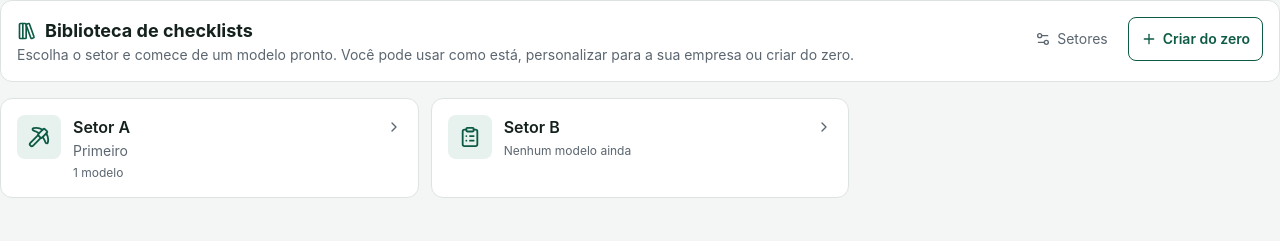
Scenario: biblioteca de checklists › lista os setores que a API manda, na ordem do cadastro, e entra no setor
The image size is (1280, 241).
Check: the text "Nenhum modelo ainda" is shown, box x1=504 y1=143 x2=631 y2=158
Click the link "Setor A Primeiro 1 modelo" at (39, 137), box x1=0 y1=98 x2=419 y2=198
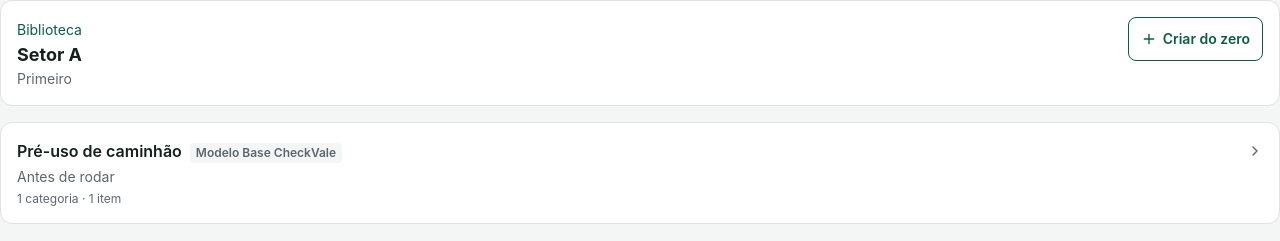
Check: the text "Pré-uso de caminhão" is shown, box x1=17 y1=141 x2=182 y2=161
Check: the text "Modelo Base CheckVale" is shown, box x1=190 y1=143 x2=342 y2=163
